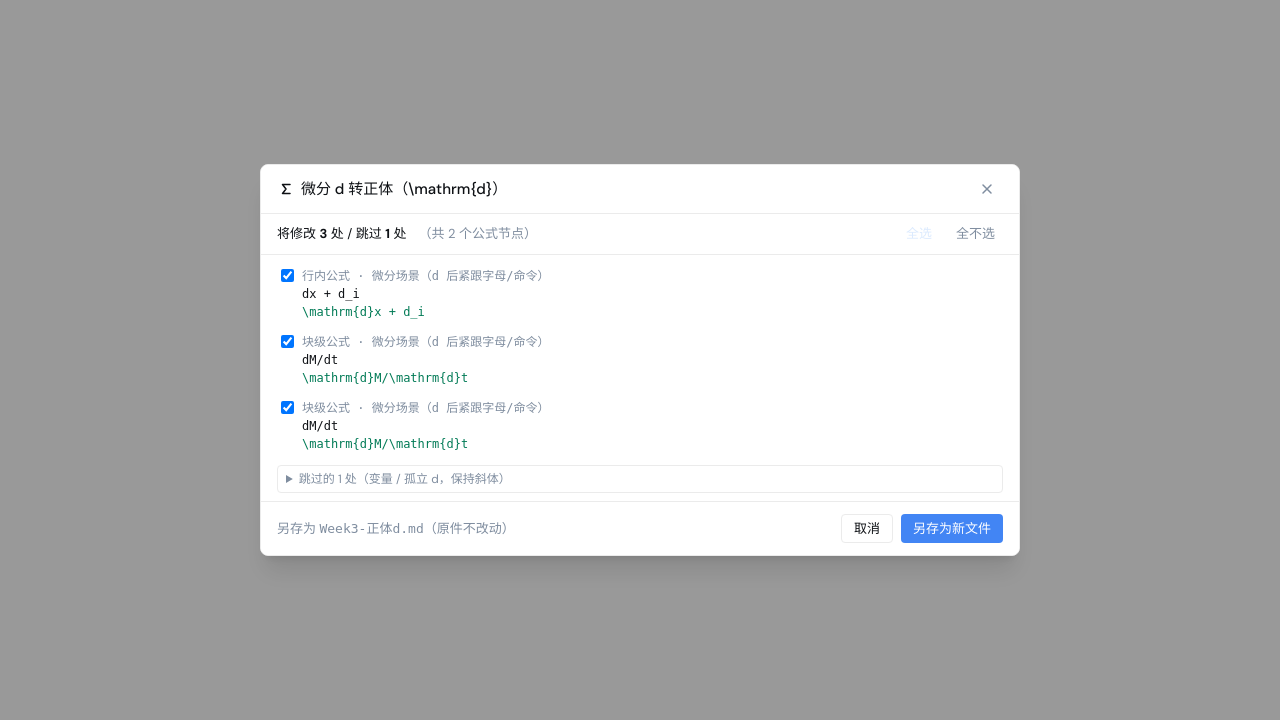
Test: task-74 对话框：另存新文件 › 正文里定位不到公式跨度 → 报错并**中止**，不写任何文件
What coordinates should you click on to do the following:
click the button "另存为新文件"
I would click on:
 (952, 528)
Its box is [901, 514, 1003, 543].
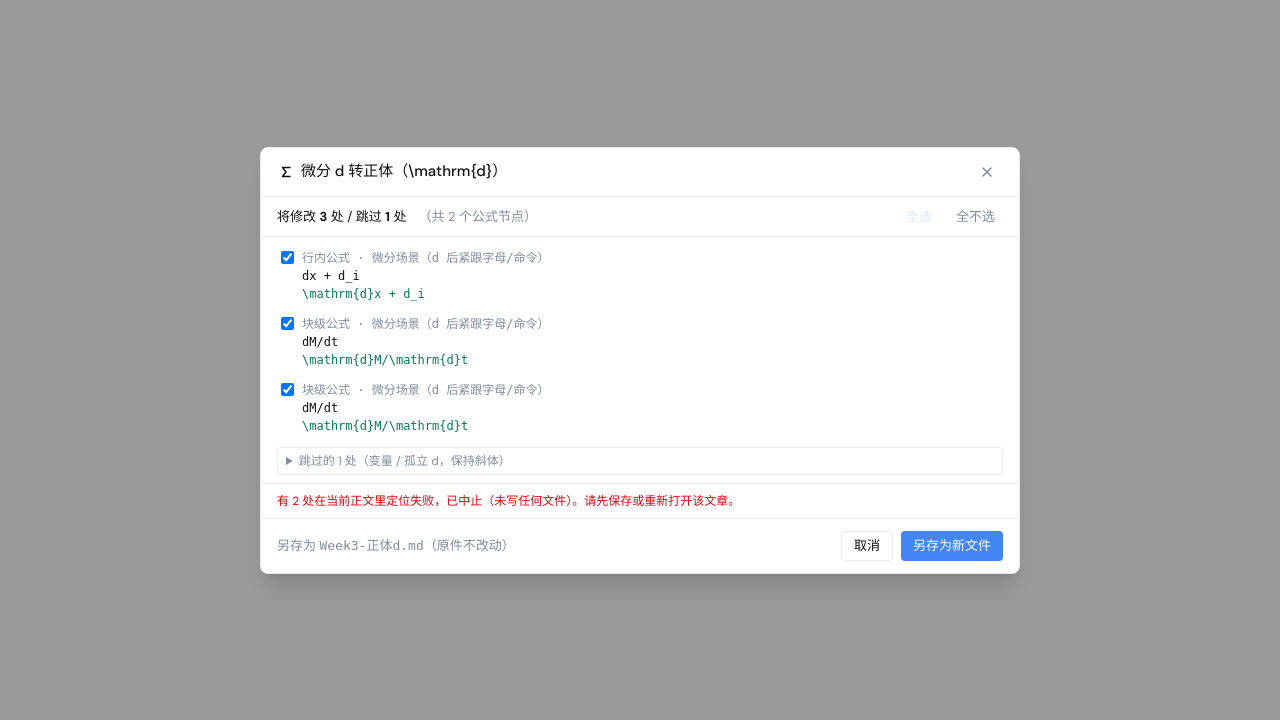
Check: the text "有 2 处在当前正文里定位失败，已中止（未写任何文件）。请先保存或重新打开该文章。" is shown, box [261, 483, 1019, 518]
